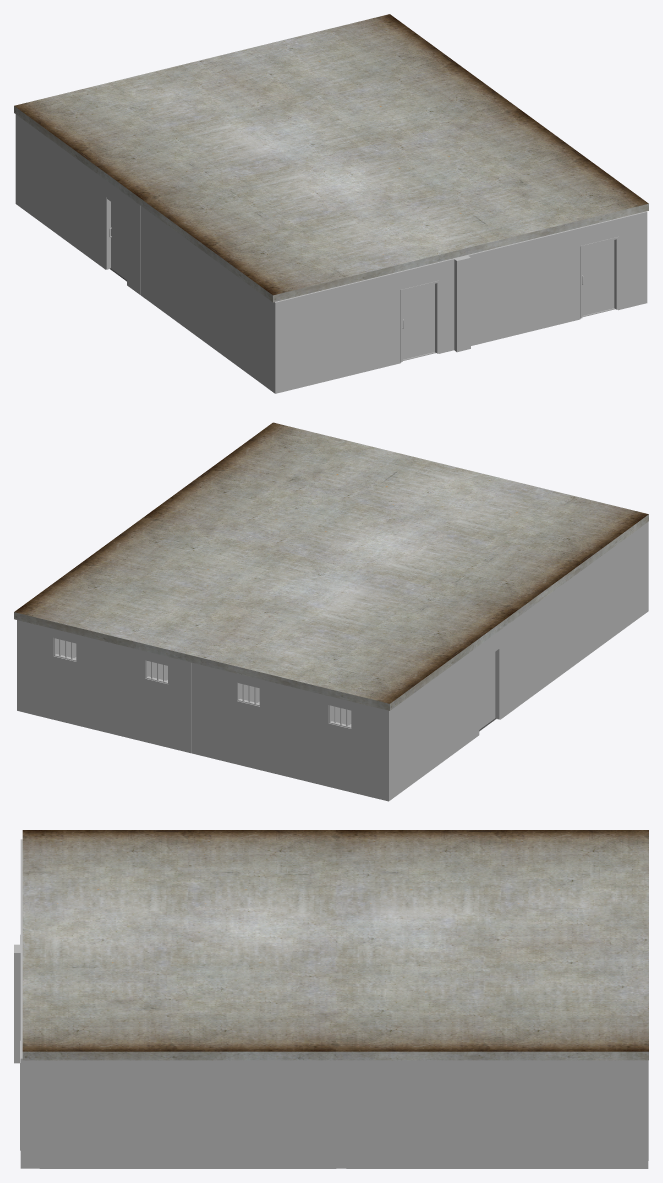
Rendered from Jail Optimized.fbx.
3 renders of one model, top to bottom at view 1: azimuth 30°, elevation 25°; view 2: azimuth 150°, elevation 25°; view 3: azimuth 270°, elevation 25°, orthographic. The views are drawn at different scales.
Visible parts, largest first — view 1: Ceiling, Prison_Walls, door_8, door_7, door_6, door_frame_2, door_frame_3; view 2: Ceiling, Prison_Walls, door_6; view 3: Ceiling, Prison_Walls.
Part boxes in pixels (box(x1,y1,x2,y2)): Ceiling: box(14, 14, 648, 302); Prison_Walls: box(15, 114, 647, 393); door_8: box(402, 283, 434, 359); door_7: box(582, 240, 614, 315); door_6: box(109, 202, 126, 279); door_frame_2: box(580, 236, 618, 318); door_frame_3: box(400, 280, 438, 362); Ceiling: box(14, 422, 648, 710); Prison_Walls: box(17, 522, 648, 801); door_6: box(479, 652, 495, 729); Ceiling: box(22, 830, 648, 1060); Prison_Walls: box(14, 839, 648, 1168).
Bounding box in the file's own units: 1244 × 311 × 1506.
